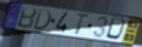3: (92, 16, 109, 39)
4: (53, 11, 69, 35)
B: (16, 6, 38, 30)
D: (105, 16, 129, 42), (32, 7, 52, 32)
T: (74, 13, 90, 37)
